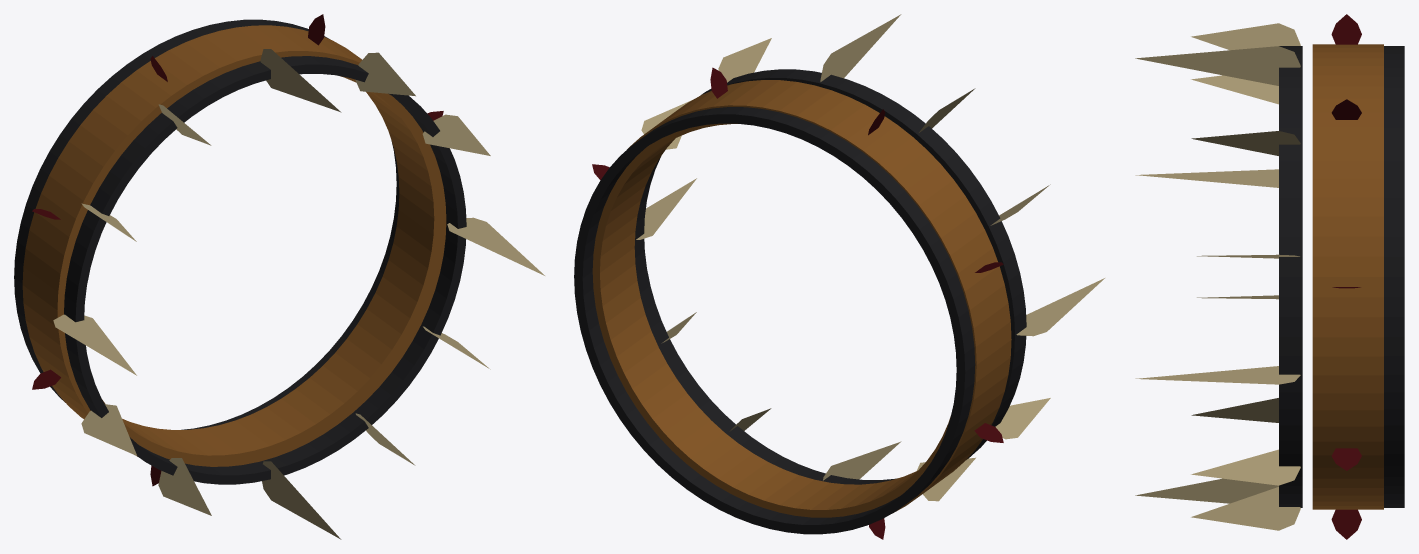
File: crown_lod0.obj
3 views of the same model, side by side, from view 1: azimuth 30°, elevation 25°; view 2: azimuth 150°, elevation 25°; view 3: azimuth 270°, elevation 25° (orthographic). The views are drawn at different scales.
Visible parts, largest first — view 1: part_0, part_1, part_2, part_6, part_12, part_9, part_3, part_5, part_11, part_10, part_4; view 2: part_0, part_2, part_1, part_6, part_9, part_5, part_10, part_12, part_3, part_11; view 3: part_0, part_1, part_2, part_6, part_13, part_14, part_12, part_7, part_3, part_9, part_5, part_11 (+5 smaller).
Part boxes in pixels (x1,y1,x2,y2): part_0: (22, 25, 446, 466); part_1: (64, 56, 466, 484); part_2: (14, 19, 399, 429); part_6: (260, 49, 341, 112); part_12: (262, 461, 341, 539); part_9: (53, 314, 136, 375); part_3: (447, 217, 544, 275); part_5: (355, 52, 415, 96); part_11: (158, 458, 211, 515); part_10: (81, 404, 136, 455); part_4: (422, 114, 490, 155); part_0: (592, 80, 1011, 517); part_2: (574, 107, 975, 534); part_1: (634, 69, 1026, 484); part_6: (820, 14, 901, 81); part_9: (1016, 278, 1104, 336); part_5: (718, 38, 771, 82); part_10: (995, 398, 1050, 439); part_12: (823, 441, 901, 480); part_3: (636, 178, 696, 239); part_11: (917, 457, 975, 501); part_0: (1312, 44, 1383, 509); part_1: (1279, 46, 1302, 507); part_2: (1384, 46, 1404, 507); part_6: (1135, 46, 1300, 85); part_13: (1191, 487, 1300, 530); part_14: (1191, 449, 1300, 485); part_12: (1135, 478, 1278, 503); part_7: (1191, 23, 1300, 50); part_3: (1135, 366, 1300, 384); part_9: (1135, 169, 1278, 187); part_5: (1191, 131, 1300, 155); part_11: (1191, 398, 1278, 422).
Size of the model in its own units: 0.3 by 0.3 by 0.159.
